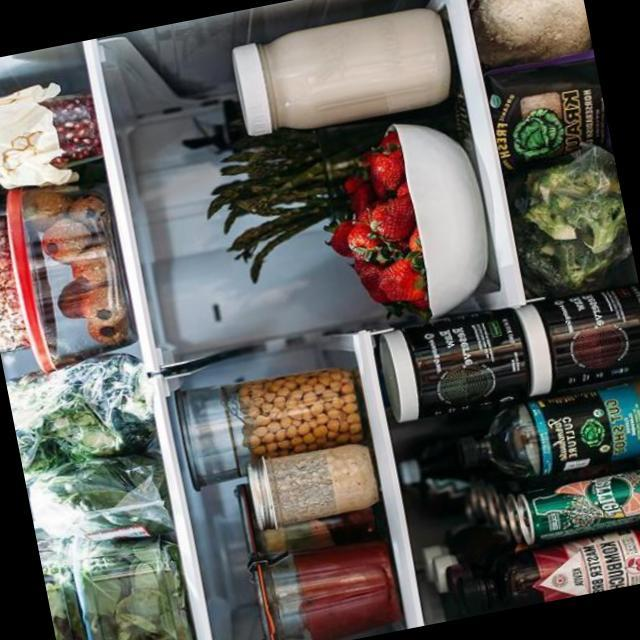Brocoli: (520, 160, 635, 279)
asparagus: (214, 129, 343, 246)
strawberries: (376, 253, 426, 306), (368, 191, 416, 246), (342, 208, 384, 262), (366, 139, 408, 192)
